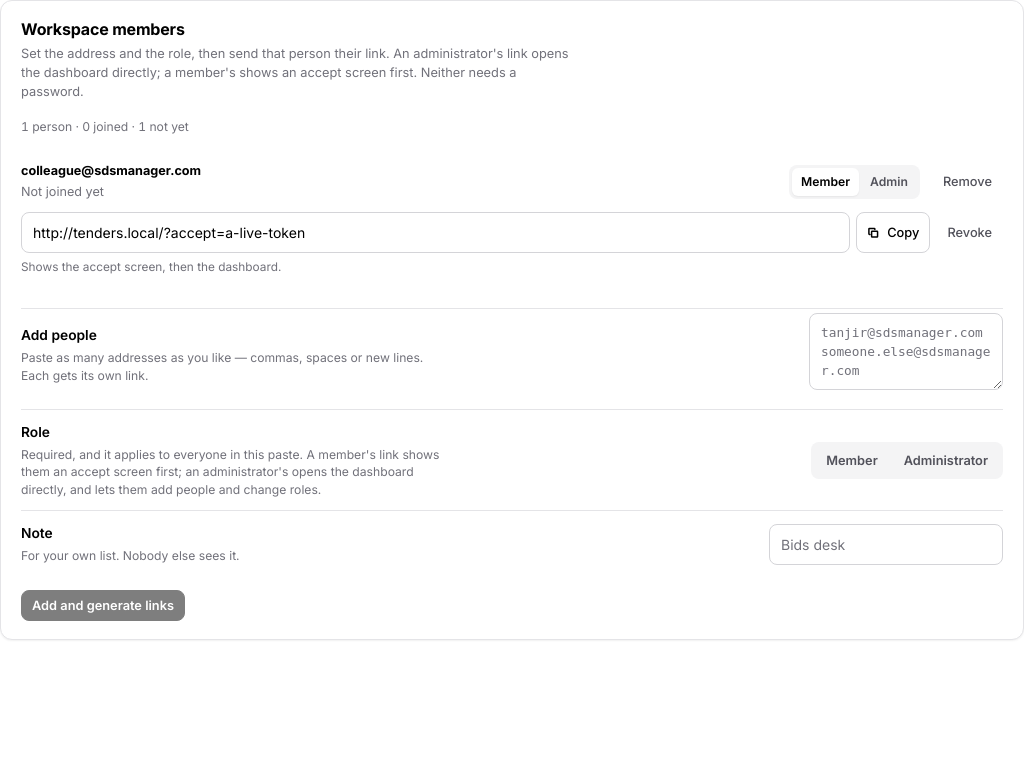
changing a role explains what it did to the link › says the link was withdrawn, and offers a new one
The width and height of the screenshot is (1024, 768).
Click the button "Admin": [889, 182] box [861, 168, 917, 196]
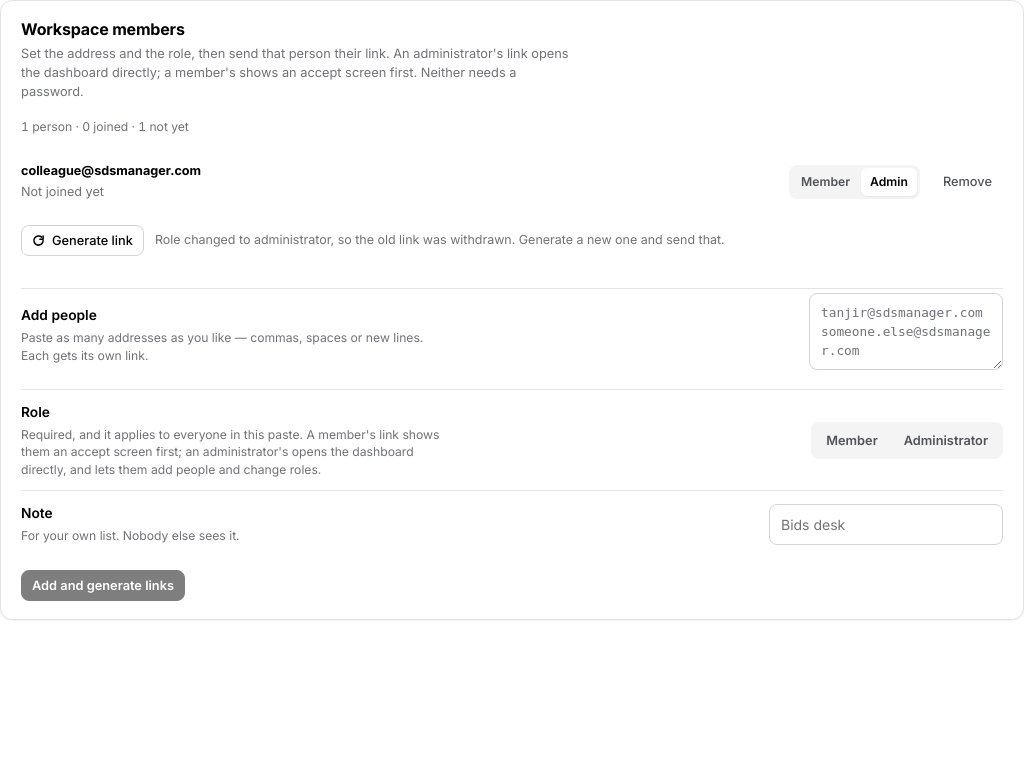
expect the text "the old link was withdrawn" is shown: met, box [155, 232, 725, 247]
expect the button "Generate link" is shown: met, box [21, 225, 144, 256]
